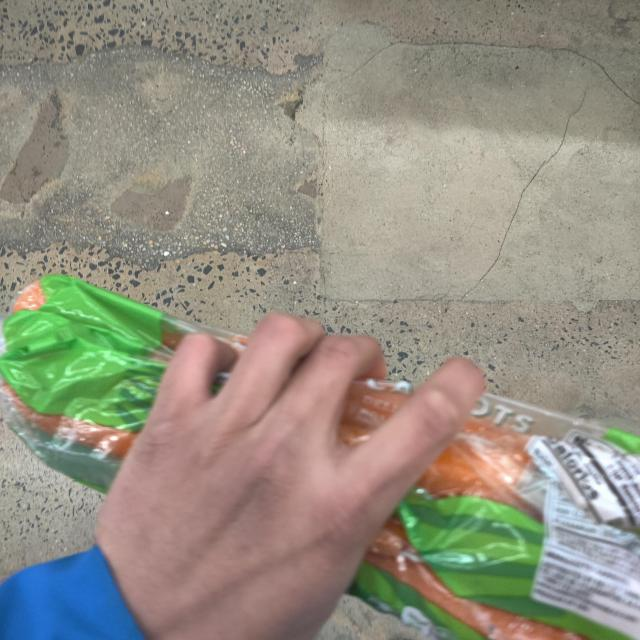Carrots: (0, 247, 640, 640)
